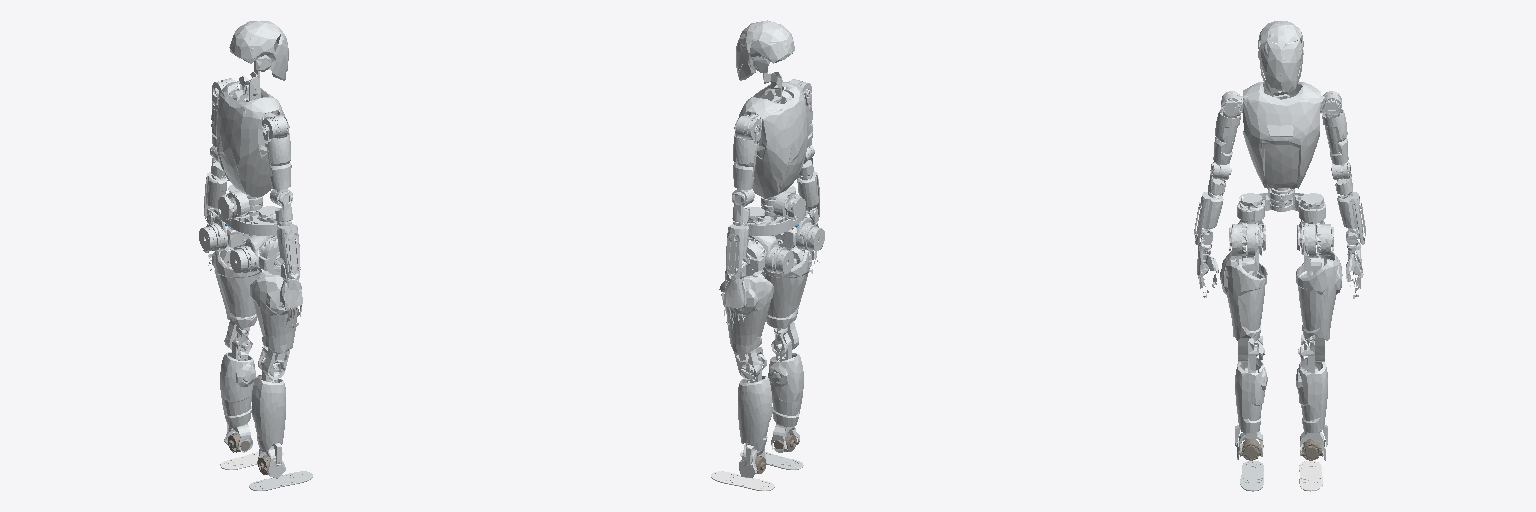
--- Render facts (derived) ---
Views: 3 orthographic renders of the robot side by side, from view 1: azimuth 30°, elevation 25°; view 2: azimuth 150°, elevation 25°; view 3: azimuth 270°, elevation 25°.
Model t1 with 25 links and 24 joints (17 revolute, 7 fixed), rooted at base_link, posed all joints at 0.
Links seen in each view (by area): view 1: WAIST_P_S, leg_r3_link, leg_r4_link, leg_l4_link, leg_l3_link, right_arm_link02, base_link, R_SHOULDER_R_S, left_arm_link02, leg_r1_link, leg_l1_link, leg_r2_link (+1 smaller); view 2: WAIST_P_S, leg_l3_link, leg_l4_link, leg_r4_link, leg_r3_link, left_arm_link02, base_link, L_SHOULDER_R_S, right_arm_link02, leg_l1_link, leg_r1_link, leg_l6_link (+1 smaller); view 3: WAIST_P_S, leg_r3_link, leg_l3_link, leg_r4_link, leg_l4_link, right_arm_link02, left_arm_link02, base_link, R_SHOULDER_R_S, L_SHOULDER_R_S, leg_r2_link, leg_l2_link (+2 smaller).
Boxes of the visible links, x1,y1,x2,y2 form: WAIST_P_S: (216,21,288,197); leg_r3_link: (250,267,298,379); leg_r4_link: (252,354,285,478); leg_l4_link: (220,331,255,452); leg_l3_link: (212,226,260,354); right_arm_link02: (275,192,302,327); base_link: (218,184,277,235); R_SHOULDER_R_S: (263,117,291,189); left_arm_link02: (203,148,227,271); leg_r1_link: (230,235,276,272); leg_l1_link: (199,215,227,250); leg_r2_link: (258,236,283,274); WAIST_P_S: (736,20,807,198); leg_l3_link: (725,269,773,379); leg_l4_link: (738,354,771,477); leg_r4_link: (768,328,803,452); leg_r3_link: (762,227,811,354); left_arm_link02: (719,192,749,328); base_link: (743,185,805,235); L_SHOULDER_R_S: (733,119,760,189); right_arm_link02: (797,158,822,273); leg_l1_link: (749,235,793,273); leg_r1_link: (796,216,824,250); leg_l6_link: (711,471,774,490); WAIST_P_S: (1243,21,1320,188); leg_r3_link: (1220,222,1267,361); leg_l3_link: (1296,223,1342,361); leg_r4_link: (1235,339,1267,459); leg_l4_link: (1296,339,1327,460); right_arm_link02: (1194,162,1225,297); left_arm_link02: (1335,162,1365,298); base_link: (1237,188,1325,221); R_SHOULDER_R_S: (1213,100,1240,164); L_SHOULDER_R_S: (1322,101,1348,164); leg_r2_link: (1229,223,1265,257); leg_l2_link: (1297,223,1333,257).
Size in the robot's own frame: 0.3033 by 0.5881 by 1.69 metres.
Meshes: 24 distinct files referenced, 24 mesh visuals loaded (24 binary STL).

The robot description file, URDF, robot "t1":
<?xml version="1.0" encoding="utf-8"?>
<!-- This URDF was automatically created by SolidWorks to URDF Exporter! Originally created by Stephen Brawner ([email redacted]) 
     Commit Version: 1.6.0-4-g7f85cfe  Build Version: 1.6.7995.38578
     For more information, please see http://wiki.ros.org/sw_urdf_exporter -->
<robot
  name="t1">

    <gazebo>
    <plugin name="gazebo_ros_control" filename="liblegged_hw_sim.so">
      <robotNamespace>/</robotNamespace>
      <robotParam>legged_robot_description</robotParam>
      <!-- <controlPeriod>0.01</controlPeriod> -->
      <robotSimType>legged_gazebo/LeggedHWSim</robotSimType>
    </plugin>
  </gazebo>


  <gazebo>
    <plugin filename="libgazebo_ros_p3d.so" name="p3d_base_controller">
      <alwaysOn>true</alwaysOn>
      <updateRate>500.0</updateRate>
      <bodyName>base_link</bodyName>
      <topicName>ground_truth/state</topicName>
      <gaussianNoise>0</gaussianNoise>
      <frameName>world</frameName>
      <xyzOffsets>0 0 0</xyzOffsets>
      <rpyOffsets>0 0 0</rpyOffsets>
    </plugin>
  </gazebo>

  <gazebo> 
        <plugin name="link_attacher_plugin" filename="libgazebo_ros_link_attacher.so"/>
  </gazebo>
  <link
    name="base_link">
    <inertial>
      <origin
        xyz="0.073 0 0.039"
        rpy="0 0 0" />
      <mass
        value="4.999" />
      <inertia
        ixx="0.039"
        ixy="9.53219619778216E-07"
        ixz="-0.002"
        iyy="0.011"
        iyz="5.223135412837E-08"
        izz="0.046" />
    </inertial>
    <visual>
      <origin
        xyz="0 0 0"
        rpy="0 0 0" />
      <geometry>
        <mesh
          filename="package://robot_rviz/meshes/PELVIS_S.STL" />
      </geometry>
      <material
        name="">
        <color
          rgba="0.898039215686275 0.917647058823529 0.929411764705882 1" />
      </material>
    </visual>
    <collision>
      <origin
        xyz="0.1 0 0.2"
        rpy="0 0.0 0" />
      <geometry>
        <!-- <mesh
          filename="../robot_rviz/meshes/PELVIS_S.STL" /> -->
        <box size="0.12 0.5 0.6" />
      </geometry>
    </collision>
  </link>
  <!-- <joint name="fixed_joint" type="fixed">
    <parent link="world"/>
    <child link="base_link"/>
    <origin xyz="1.2 0 0" rpy="0 0 0"/><joint
  </joint> -->


  <joint name="base_imu_joint" type="fixed">
    <origin rpy="0. 0. 0." xyz="0.0 0.0 0.0" />
    <parent link="base_link" />
    <child link="base_imu" />
  </joint>
  <!-- Imu link -->
  <link name="base_imu">
    <inertial>
      <mass value="0.01" />
      <origin rpy="0 0 0" xyz="0 0 0.0" />
      <inertia ixx="0.000001" ixy="0" ixz="0" iyy="0.000001" iyz="0" izz="0.000001" />
    </inertial>
    <visual>
      <origin rpy="0 0 0" xyz="0 0 0" />
      <geometry>
        <box size="0.015 0.015 0.004" />
      </geometry>
    </visual>
    <material name="orange">
      <color rgba="255 108 10 255" />
    </material>
  </link>
  <gazebo reference="base_imu_joint">
    <disableFixedJointLumping>true</disableFixedJointLumping>
  </gazebo>
  <!-- ************************************************************ -->
  <!-- ************************ Left Leg ************************** -->
  <!-- ************************************************************ -->
    
    <!-- ************* part 1 *************** -->
  <link
    name="leg_l1_link">
    <inertial>
      <origin
        xyz="-0.088 0 -0.077"
        rpy="0 0 0" />
      <mass
        value="1.679" />
      <inertia
        ixx="0.002"
        ixy="0.00"
        ixz="0.001"
        iyy="0.003"
        iyz="0.000"
        izz="0.002" />
    </inertial>
    <visual>
      <origin
        xyz="0 0 0"
        rpy="0 0 0" />
      <geometry>
        <mesh
          filename="package://robot_rviz/meshes/L_HIP_Y_S.STL" />
      </geometry>
      <material
        name="">
        <color
          rgba="0.898039215686275 0.917647058823529 0.929411764705882 1" />
      </material>
    </visual>
    <!-- <collision>
      <origin
        xyz="0 0 0"
        rpy="0 0 0" />
      <geometry>
        <mesh
          filename="package://robot_rviz/meshes/L_HIP_Y_S.STL" />
      </geometry>
    </collision> -->
  </link>
  <joint
    name="leg_l1_joint"
    type="revolute">
    <origin
      xyz="0.1067 0.105 0.000"
      rpy="0 0 0." />
    <parent
      link="base_link" />
    <child
      link="leg_l1_link" />
    <axis
      xyz="0 0 1" />
    <dynamics damping="0.0" friction="0.00" />
    <limit
      lower="-0.7"
      upper="0.7"
      effort="102"
      velocity="3.7" />
  </joint>
  <link
    name="leg_l2_link">
    <inertial>
      <origin
        xyz="0.071 0.009 0.000"
        rpy="0 0 0" />
      <mass
        value="3.287" />
      <inertia
        ixx="0.006"
        ixy="0.000"
        ixz="0.000"
        iyy="0.006"
        iyz="0.000"
        izz="0.006" />
    </inertial>
    <visual>
      <origin
        xyz="0 0 0"
        rpy="0 0 0" />
      <geometry>
        <mesh
          filename="package://robot_rviz/meshes/L_HIP_R_S.STL" />
      </geometry>
      <material
        name="">
        <color
          rgba="0.898039215686275 0.917647058823529 0.929411764705882 1" />
      </material>
    </visual>
    <!-- <collision>
      <origin
        xyz="0 0 0"
        rpy="0 0 0" />
      <geometry>
        <mesh
          filename="package://robot_rviz/meshes/L_HIP_R_S.STL" />
      </geometry>
    </collision> -->
  </link>
  <joint
    name="leg_l2_joint"
    type="revolute">
    <origin
      xyz="-0.074 0 -0.09"
      rpy="0. 0 0" />
    <parent
      link="leg_l1_link" />
    <child
      link="leg_l2_link" />
    <axis
      xyz="1 0 0" />
    <limit
      lower="-0.3"
      upper="0.3"
      effort="102"
      velocity="3.7" />
    <dynamics damping="0.0" friction="0.00" />
  </joint>
  <link
    name="leg_l3_link">
    <inertial>
      <origin
        xyz="0.005 0.053 -0.178"
        rpy="0 0 0" />
      <mass
        value="6.432" />
      <inertia
        ixx="0.054"
        ixy="0.000"
        ixz="-0.001"
        iyy="0.056"
        iyz="0.002"
        izz="0.011" />
    </inertial>
    <visual>
      <origin
        xyz="0 0 0"
        rpy="0 0 0" />
      <geometry>
        <mesh
          filename="package://robot_rviz/meshes/L_HIP_P_S.STL" />
      </geometry>
      <material
        name="">
        <color
          rgba="0.898039215686275 0.917647058823529 0.929411764705882 1" />
      </material>
    </visual>
    <!-- <collision>
      <origin
        xyz="0.01 0.06 -0.185"
        rpy="0 0 0" />
      <geometry>
        <box size="0.12 0.12 0.30" />
<mesh
          filename="package://robot_rviz/meshes/L_HIP_P_S.STL" />
      </geometry>
    </collision> -->
  </link>
  <joint
    name="leg_l3_joint"
    type="revolute">
    <origin
      xyz="0.074 -0.0255 0"
      rpy="0 0. 0" />
    <parent
      link="leg_l2_link" />
    <child
      link="leg_l3_link" />
    <axis
      xyz="0 1 0" />
    <limit
      lower="-1.4"
      upper="2"
      effort="500"
      velocity="20" />
    <dynamics damping="0.0" friction="0.00" />
  </joint>
  <link
    name="leg_l4_link">
    <inertial>
      <origin
        xyz="-0.00 0.053 -0.179"
        rpy="0 0 0" />
      <mass
        value="3.222" />
      <inertia
        ixx="0.044"
        ixy="0.000"
        ixz="0.000"
        iyy="0.044"
        iyz="-0.002"
        izz="0.003" />
    </inertial>
    <visual>
      <origin
        xyz="0 0 0"
        rpy="0 0 0" />
      <geometry>
        <mesh
          filename="package://robot_rviz/meshes/L_KNEE_P_S.STL" />
      </geometry>
      <material
        name="">
        <color
          rgba="0.898039215686275 0.917647058823529 0.929411764705882 1" />
      </material>
    </visual>
    <!-- <collision>
      <origin
        xyz="0 0.05 -0.11"
        rpy="0 0 0" />
      <geometry>
        <box size="0.1 0.1 0.30" />
<mesh
          filename="package://robot_rviz/meshes/L_KNEE_P_S.STL" />
      </geometry>
    </collision> -->
  </link>
  <joint
    name="leg_l4_joint"
    type="revolute">
    <origin
      xyz="0 -0.0226 -0.42"
      rpy="0 0. 0" />
    <parent
      link="leg_l3_link" />
    <child
      link="leg_l4_link" />
    <axis
      xyz="0 1 0" />
    <limit
      lower="0"
      upper="2.09"
      effort="500"
      velocity="20" />
    <dynamics damping="0.0" friction="0.00" />
  </joint>
  <link
    name="leg_l5_link">
    <inertial>
      <origin
        xyz="0.002 -0.046 0.0000"
        rpy="0 0 0" />
      <mass
        value="0.629" />
      <inertia
        ixx="0.00023285"
        ixy="0"
        ixz="0"
        iyy="0.00029849"
        iyz="0"
        izz="0.00028791" />
    </inertial>
    <visual>
      <origin
        xyz="0 0 0"
        rpy="0 0 0" />
      <geometry>
        <mesh
          filename="package://robot_rviz/meshes/L_ANKLE_P_S.STL" />
      </geometry>
      <material
        name="">
        <color
          rgba="0.647058823529412 0.619607843137255 0.588235294117647 1" />
      </material>
    </visual>
    <!-- <collision>
      <origin
        xyz="0 0 0"
        rpy="0 0 0" />
      <geometry>
        <mesh
          filename="package://robot_rviz/meshes/L_ANKLE_P_S.STL" />
      </geometry>
    </collision> -->
  </link>
  <joint
    name="leg_l5_joint"
    type="revolute">
    <origin
      xyz="0 0.0936 -0.37"
      rpy="0 0. 0" />
    <parent
      link="leg_l4_link" />
    <child
      link="leg_l5_link" />
    <axis
      xyz="0 1 0" />
    <limit
      lower="-2.0"
      upper="2.0"
      effort="200"
      velocity="20" />
    <dynamics damping="0.0" friction="0.00" />
  </joint>
  <link
    name="leg_l6_link">
    <inertial>
      <origin
        xyz="0.003 -0.002 -0.068"
        rpy="0 0 0" />
      <mass
        value="0.802" />
      <inertia
        ixx="0.001"
        ixy="0"
        ixz="0"
        iyy="0.003"
        iyz="0"
        izz="0.003" />
    </inertial>
    <visual>
      <origin
        xyz="0 0 -0.075"
        rpy="0 0 0" />
      <geometry>
        <mesh
          filename="package://robot_rviz/meshes/L_ANKLE_R_S.STL" />
      </geometry>
      <material
        name="">
        <color
          rgba="1 1 1 1" />
      </material>
    </visual>
    <collision>
      <!-- <origin
        xyz="-0.0 -0.00  -0.0715" 
        rpy="0 0 0" /> -->
      <origin
        xyz="-0.0 -0.00 -0.075"
        rpy="0 0 0" />
      <geometry>
        <mesh
          filename="package://robot_rviz/meshes/L_ANKLE_R_S.STL" />
      </geometry>
      <!-- <geometry>
        <box size="0.215 0.084 0.017" />
      </geometry> -->
    </collision>
  </link>
  <joint
    name="leg_l6_joint"
    type="revolute">
    <origin
      xyz="0.02595 -0.049 0"
      rpy="0. 0 0" />
    <parent
      link="leg_l5_link" />
    <child
      link="leg_l6_link" />
    <axis
      xyz="1 0 0" />
    <limit
      lower="-3.0"
      upper="3.0"
      effort="20.2"
      velocity="9.85" />
    <dynamics damping="0.0" friction="0.00" />
  </joint>

  <gazebo reference="leg_l1_link">
    <mu1>0.6</mu1>
    <mu2>0.6</mu2>
    <self_collide>1</self_collide>
  </gazebo>
  <gazebo reference="leg_l2_link">
    <mu1>0.6</mu1>
    <mu2>0.6</mu2>
    <self_collide>1</self_collide>
  </gazebo>
  <gazebo reference="leg_l3_link">
    <mu1>0.6</mu1>
    <mu2>0.6</mu2>
    <self_collide>1</self_collide>
  </gazebo>
  <gazebo reference="leg_l4_link">
    <mu1>0.6</mu1>
    <mu2>0.6</mu2>
    <self_collide>1</self_collide>
  </gazebo>
  <gazebo reference="leg_l5_link">
    <mu1>1.6</mu1>
    <mu2>1.6</mu2>
    <self_collide>0</self_collide>
    <kp value="1000000.0" />
    <kd value="100.0" />
    <maxVel>1.0</maxVel>
    <minDepth>0.00</minDepth>
  </gazebo>
  <gazebo reference="leg_l6_link">
    <mu1>1.6</mu1>
    <mu2>1.6</mu2>
    <self_collide>0</self_collide>
    <kp value="1000000.0" />
    <kd value="100.0" />
    <maxVel>1.0</maxVel>
    <minDepth>0.00</minDepth>
  </gazebo>

  <transmission name="leg_l1_tran">
    <type>transmission_interface/SimpleTransmission</type>
    <joint name="leg_l1_joint">
      <hardwareInterface>hardware_interface/EffortJointInterface</hardwareInterface>
    </joint>
    <actuator name="leg_l1_motor">
      <hardwareInterface>hardware_interface/EffortJointInterface</hardwareInterface>
      <mechanicalReduction>101</mechanicalReduction>
      <maxVelocity>11</maxVelocity> <!-- 40rpm -->
      <maxEffort>300</maxEffort>
      <!-- <maxVelocity>4.188790205</maxVelocity>
      <maxEffort>64.0</maxEffort> -->
    </actuator>
  </transmission>
  <transmission name="leg_l2_tran">
    <type>transmission_interface/SimpleTransmission</type>
    <joint name="leg_l2_joint">
      <hardwareInterface>hardware_interface/EffortJointInterface</hardwareInterface>
    </joint>
    <actuator name="leg_l2_motor">
      <hardwareInterface>hardware_interface/EffortJointInterface</hardwareInterface>
      <mechanicalReduction>101</mechanicalReduction>
      <maxVelocity>4.188790205</maxVelocity> <!-- 40rpm -->
      <maxEffort>64.0</maxEffort>
      <!--  <maxVelocity>4.188790205</maxVelocity>
      <maxEffort>64.0</maxEffort> -->
    </actuator>
  </transmission>
  <transmission name="leg_l3_tran">
    <type>transmission_interface/SimpleTransmission</type>
    <joint name="leg_l3_joint">
      <hardwareInterface>hardware_interface/EffortJointInterface</hardwareInterface>
    </joint>
    <actuator name="leg_l3_motor">
      <hardwareInterface>hardware_interface/EffortJointInterface</hardwareInterface>
      <mechanicalReduction>51</mechanicalReduction>
      <maxVelocity>5.759586532</maxVelocity>  <!-- 55rpm -->
      <maxEffort>188.0</maxEffort>
      <!-- <maxVelocity>11</maxVelocity> 
      <maxEffort>300</maxEffort> -->
    </actuator>
  </transmission>
  <transmission name="leg_l4_tran">
    <type>transmission_interface/SimpleTransmission</type>
    <joint name="leg_l4_joint">
      <hardwareInterface>hardware_interface/EffortJointInterface</hardwareInterface>
    </joint>
    <actuator name="leg_l4_motor">
      <hardwareInterface>hardware_interface/EffortJointInterface</hardwareInterface>
      <mechanicalReduction>51</mechanicalReduction>
      <maxVelocity>5.759586532</maxVelocity> <!-- 55rpm -->
      <maxEffort>188.0</maxEffort>
      <!-- <maxVelocity>5.759586532</maxVelocity> 
      <maxEffort>188.0</maxEffort> -->
    </actuator>
  </transmission>
  <transmission name="leg_l5_tran">
    <type>transmission_interface/SimpleTransmission</type>
    <joint name="leg_l5_joint">
      <hardwareInterface>hardware_interface/EffortJointInterface</hardwareInterface>
    </joint>
    <actuator name="leg_l5_motor">
      <hardwareInterface>hardware_interface/EffortJointInterface</hardwareInterface>
      <mechanicalReduction>51</mechanicalReduction>
      <maxVelocity>8.58701992</maxVelocity> <!-- 82rpm -->
      <maxEffort>40.0</maxEffort>
      <!--  <maxVelocity>8.58701992</maxVelocity> 
      <maxEffort>40.0</maxEffort> -->
    </actuator>
  </transmission>
  <transmission name="leg_l6_tran">
    <type>transmission_interface/SimpleTransmission</type>
    <joint name="leg_l6_joint">
      <hardwareInterface>hardware_interface/EffortJointInterface</hardwareInterface>
    </joint>
    <actuator name="leg_l6_motor">
      <hardwareInterface>hardware_interface/EffortJointInterface</hardwareInterface>
      <mechanicalReduction>51</mechanicalReduction>
      <maxVelocity>9.58</maxVelocity> <!-- 97rpm -->
      <maxEffort>20.2</maxEffort>
      <!-- <maxVelocity>11</maxVelocity> 
      <maxEffort>300</maxEffort> -->
    </actuator>
  </transmission>


  <link
    name="leg_r1_link">
    <inertial>
      <origin
        xyz="-0.088 0.00 -0.077"
        rpy="0 0 0" />
      <mass
        value="1.679" />
      <inertia
        ixx="0.002"
        ixy="0"
        ixz="0.001"
        iyy="0.003"
        iyz="0"
        izz="0.002" />
    </inertial>
    <visual>
      <origin
        xyz="0 0 0"
        rpy="0 0 0" />
      <geometry>
        <mesh
          filename="package://robot_rviz/meshes/R_HIP_Y_S.STL" />
      </geometry>
      <material
        name="">
        <color
          rgba="0.898039215686275 0.917647058823529 0.929411764705882 1" />
      </material>
    </visual>
    <!-- <collision>
      <origin
        xyz="0 0 0"
        rpy="0 0 0" />
      <geometry>
        <mesh
          filename="package://robot_rviz/meshes/R_HIP_Y_S.STL" />
      </geometry>
    </collision> -->
  </link>
  <joint
    name="leg_r1_joint"
    type="revolute">
    <origin
      xyz="0.1067 -0.105 0"
      rpy="0 0 0." />
    <parent
      link="base_link" />
    <child
      link="leg_r1_link" />
    <axis
      xyz="0 0 1" />
    <limit
      lower="-0.7"
      upper="0.7"
      effort="102"
      velocity="3.7" />
    <dynamics damping="0.0" friction="0.00" />
  </joint>
  <link
    name="leg_r2_link">
    <inertial>
      <origin
        xyz="0.071 -0.009 0.000"
        rpy="0 0 0" />
      <mass
        value="3.287" />
      <inertia
        ixx="0.006"
        ixy="0.000"
        ixz="0.000"
        iyy="0.006"
        iyz="0.000"
        izz="0.006" />
    </inertial>
    <visual>
      <origin
        xyz="0 0 0"
        rpy="0 0 0" />
      <geometry>
        <mesh
          filename="package://robot_rviz/meshes/R_HIP_R_S.STL" />
      </geometry>
      <material
        name="">
        <color
          rgba="0.898039215686275 0.917647058823529 0.929411764705882 1" />
      </material>
    </visual>
    <!-- <collision>
      <origin
        xyz="0 0 0"
        rpy="0 0 0" />
      <geometry>
        <mesh
          filename="package://robot_rviz/meshes/R_HIP_R_S.STL" />
      </geometry>
    </collision> -->
  </link>
  <joint
    name="leg_r2_joint"
    type="revolute">
    <origin
      xyz="-0.074 0 -0.09"
      rpy="0. 0 0" />
    <parent
      link="leg_r1_link" />
    <child
      link="leg_r2_link" />
    <axis
      xyz="1 0 0" />
    <limit
      lower="-0.3"
      upper="0.3"
      effort="102"
      velocity="3.7" />
    <dynamics damping="0.0" friction="0.00" />
  </joint>
  <link
    name="leg_r3_link">
    <inertial>
      <origin
        xyz="0.005 -0.053 -0.178"
        rpy="0 0 0" />
      <mass
        value="6.432" />
      <inertia
        ixx="0.054"
        ixy="0.000"
        ixz="-0.001"
        iyy="0.056"
        iyz="-0.002"
        izz="0.011" />
    </inertial>
    <visual>
      <origin
        xyz="0 0 0"
        rpy="0 0 0" />
      <geometry>
        <mesh
          filename="package://robot_rviz/meshes/R_HIP_P_S.STL" />
      </geometry>
      <material
        name="">
        <color
          rgba="0.898039215686275 0.917647058823529 0.929411764705882 1" />
      </material>
    </visual>
    <!-- <collision>
      <origin
        xyz="0.01 -0.06 -0.185"
        rpy="0 0 0" />
      <geometry>
        <box size="0.12 0.12 0.30" />
<mesh
          filename="package://robot_rviz/meshes/R_HIP_P_S.STL" />
      </geometry>
    </collision> -->
  </link>
  <joint
    name="leg_r3_joint"
    type="revolute">
    <origin
      xyz="0.074 0.0255 0"
      rpy="0 0. 0" />
    <parent
      link="leg_r2_link" />
    <child
      link="leg_r3_link" />
    <axis
      xyz="0 1 0" />
    <limit
      lower="-1.4"
      upper="2"
      effort="500"
      velocity="20" />
    <dynamics damping="0.0" friction="0.00" />
  </joint>
  <link
    name="leg_r4_link">
    <inertial>
      <origin
        xyz="-0.000 -0.053 -0.179"
        rpy="0 0 0" />
      <mass
        value="3.222" />
      <inertia
        ixx="0.044"
        ixy="0.000"
        ixz="0.000"
        iyy="0.044"
        iyz="0.002"
        izz="0.003" />
    </inertial>
    <visual>
      <origin
        xyz="0 0 0"
        rpy="0 0 0" />
      <geometry>
        <mesh
          filename="package://robot_rviz/meshes/R_KNEE_P_S.STL" />
      </geometry>
      <material
        name="">
        <color
          rgba="0.898039215686275 0.917647058823529 0.929411764705882 1" />
      </material>
    </visual>
    <!-- <collision>
      <origin
        xyz="0 -0.05 -0.11"
        rpy="0 0 0" />
      <geometry>
        <box size="0.1 0.1 0.30" />
<mesh
          filename="package://robot_rviz/meshes/R_KNEE_P_S.STL" />
      </geometry>
    </collision> -->
  </link>
  <joint
    name="leg_r4_joint"
    type="revolute">
    <origin
      xyz="0 0.0226 -0.42"
      rpy="0 0. 0" />
    <parent
      link="leg_r3_link" />
    <child
      link="leg_r4_link" />
    <axis
      xyz="0 1 0" />
    <limit
      lower="0"
      upper="2.09"
      effort="500"
      velocity="20" />
    <dynamics damping="0.0" friction="0.00" />
  </joint>
  <link
    name="leg_r5_link">
    <inertial>
      <origin
        xyz="0.002 0.046 0.0000"
        rpy="0 0 0" />
      <mass
        value="0.629" />
      <inertia
        ixx="0.00023285"
        ixy="0"
        ixz="0"
        iyy="0.00029849"
        iyz="0"
        izz="0.00028791" />
    </inertial>
    <visual>
      <origin
        xyz="0 0 0"
        rpy="0 0 0" />
      <geometry>
        <mesh
          filename="package://robot_rviz/meshes/R_ANKLE_P_S.STL" />
      </geometry>
      <material
        name="">
        <color
          rgba="0.647058823529412 0.619607843137255 0.588235294117647 1" />
      </material>
    </visual>
    <!-- <collision>
      <origin
        xyz="0 0 0"
        rpy="0 0 0" />
      <geometry>
        <mesh
          filename="package://robot_rviz/meshes/R_ANKLE_P_S.STL" />
      </geometry>
    </collision> -->
  </link>
  <joint
    name="leg_r5_joint"
    type="revolute">
    <origin
      xyz="0 -0.0936 -0.37"
      rpy="0 0. 0" />
    <parent
      link="leg_r4_link" />
    <child
      link="leg_r5_link" />
    <axis
      xyz="0 1 0" />
    <limit
      lower="-2.0"
      upper="2.0"
      effort="200"
      velocity="20" />
    <dynamics damping="0.0" friction="0.00" />
  </joint>
  <link
    name="leg_r6_link">
    <inertial>
      <origin
        xyz="0.003 0.002 -0.068"
        rpy="0 0 0" />
      <mass
        value="0.802" />
      <inertia
        ixx="0.001"
        ixy="0"
        ixz="0"
        iyy="0.003"
        iyz="0"
        izz="0.003" />
    </inertial>
    <visual>
      <origin
        xyz="0 0 -0.075"
        rpy="0 0 0" />
      <geometry>
        <mesh
          filename="package://robot_rviz/meshes/R_ANKLE_R_S.STL" />
      </geometry>
      <material
        name="">
        <color
          rgba="0.898039215686275 0.917647058823529 0.929411764705882 1" />
      </material>
    </visual>
    <collision>
      <!-- <origin
        xyz="-0.0 -0.00  -0.0715"
        rpy="0 0 0" /> -->
      <origin
        xyz="-0.0 -0.00  -0.075"
        rpy="0 0 0" />
      <geometry>
        <mesh
          filename="package://robot_rviz/meshes/R_ANKLE_R_S.STL" />
      </geometry>
      <!-- <geometry>
        <box size="0.215 0.084 0.017" />
      </geometry> -->
    </collision>
  </link>
  <joint
    name="leg_r6_joint"
    type="revolute">
    <origin
      xyz="0.02595 0.049 0"
      rpy="0. 0 0" />
    <parent
      link="leg_r5_link" />
    <child
      link="leg_r6_link" />
    <axis
      xyz="1 0 0" />
    <limit
      lower="-3.0"
      upper="3.0"
      effort="20.2"
      velocity="9.85" />
    <dynamics damping="0.0" friction="0.00" />
  </joint>

  <gazebo reference="leg_r1_link">
    <mu1>0.6</mu1>
    <mu2>0.6</mu2>
    <self_collide>1</self_collide>
  </gazebo>
  <gazebo reference="leg_r2_link">
    <mu1>0.6</mu1>
    <mu2>0.6</mu2>
    <self_collide>1</self_collide>
  </gazebo>
  <gazebo reference="leg_r3_link">
    <mu1>0.6</mu1>
    <mu2>0.6</mu2>
    <self_collide>1</self_collide>
  </gazebo>
  <gazebo reference="leg_r4_link">
    <mu1>0.6</mu1>
    <mu2>0.6</mu2>
    <self_collide>1</self_collide>
  </gazebo>
  <gazebo reference="leg_r5_link">
    <mu1>1.6</mu1>
    <mu2>1.6</mu2>
    <self_collide>0</self_collide>
    <kp value="1000000.0" />
    <kd value="100.0" />
    <maxVel>1.0</maxVel>
    <minDepth>0.00</minDepth>
  </gazebo>
  <gazebo reference="leg_r6_link">
    <mu1>1.6</mu1>
    <mu2>1.6</mu2>
    <self_collide>0</self_collide>
    <kp value="1000000.0" />
    <kd value="100.0" />
    <maxVel>1.0</maxVel>
    <minDepth>0.00</minDepth>
  </gazebo>

  <transmission name="leg_r1_tran">
    <type>transmission_interface/SimpleTransmission</type>
    <joint name="leg_r1_joint">
      <hardwareInterface>hardware_interface/EffortJointInterface</hardwareInterface>
    </joint>
    <actuator name="leg_r1_motor">
      <hardwareInterface>hardware_interface/EffortJointInterface</hardwareInterface>
      <mechanicalReduction>101</mechanicalReduction>
      <maxVelocity>4.188790205</maxVelocity> <!-- 40rpm -->
      <maxEffort>64.0</maxEffort>
      <!-- <maxVelocity>4.188790205</maxVelocity> 
      <maxEffort>64.0</maxEffort> -->
    </actuator>
  </transmission>
  <transmission name="leg_r2_tran">
    <type>transmission_interface/SimpleTransmission</type>
    <joint name="leg_r2_joint">
      <hardwareInterface>hardware_interface/EffortJointInterface</hardwareInterface>
    </joint>
    <actuator name="leg_r2_motor">
      <hardwareInterface>hardware_interface/EffortJointInterface</hardwareInterface>
      <mechanicalReduction>101</mechanicalReduction>
      <maxVelocity>11</maxVelocity> <!-- 40rpm -->
      <maxEffort>300</maxEffort>
      <!-- <maxVelocity>4.188790205</maxVelocity>
      <maxEffort>64.0</maxEffort> -->
    </actuator>
  </transmission>
  <transmission name="leg_r3_tran">
    <type>transmission_interface/SimpleTransmission</type>
    <joint name="leg_r3_joint">
      <hardwareInterface>hardware_interface/EffortJointInterface</hardwareInterface>
    </joint>
    <actuator name="leg_r3_motor">
      <hardwareInterface>hardware_interface/EffortJointInterface</hardwareInterface>
      <mechanicalReduction>51</mechanicalReduction>
      <maxVelocity>11</maxVelocity>  <!-- 55rpm -->
      <maxEffort>300</maxEffort>
      <!-- <maxVelocity>5.759586532</maxVelocity>
      <maxEffort>188.0</maxEffort> -->
    </actuator>
  </transmission>
  <transmission name="leg_r4_tran">
    <type>transmission_interface/SimpleTransmission</type>
    <joint name="leg_r4_joint">
      <hardwareInterface>hardware_interface/EffortJointInterface</hardwareInterface>
    </joint>
    <actuator name="leg_r4_motor">
      <hardwareInterface>hardware_interface/EffortJointInterface</hardwareInterface>
      <mechanicalReduction>51</mechanicalReduction>
      <maxVelocity>11</maxVelocity> <!-- 55rpm -->
      <maxEffort>300</maxEffort>
      <!-- <maxVelocity>5.759586532</maxVelocity> 
      <maxEffort>188.0</maxEffort> -->
    </actuator>
  </transmission>
  <transmission name="leg_r5_tran">
    <type>transmission_interface/SimpleTransmission</type>
    <joint name="leg_r5_joint">
      <hardwareInterface>hardware_interface/EffortJointInterface</hardwareInterface>
    </joint>
    <actuator name="leg_r5_motor">
      <hardwareInterface>hardware_interface/EffortJointInterface</hardwareInterface>
      <mechanicalReduction>51</mechanicalReduction>
      <maxVelocity>11</maxVelocity> <!-- 82rpm -->
      <maxEffort>300</maxEffort>
      <!-- <maxVelocity>8.58701992</maxVelocity>
      <maxEffort>40.0</maxEffort> -->
    </actuator>
  </transmission>
  <transmission name="leg_r6_tran">
    <type>transmission_interface/SimpleTransmission</type>
    <joint name="leg_r6_joint">
      <hardwareInterface>hardware_interface/EffortJointInterface</hardwareInterface>
    </joint>
    <actuator name="leg_r6_motor">
      <hardwareInterface>hardware_interface/EffortJointInterface</hardwareInterface>
      <mechanicalReduction>51</mechanicalReduction>
      <maxVelocity>11</maxVelocity> <!-- 97rpm -->
      <maxEffort>300</maxEffort>
      <!-- <maxVelocity>9.58</maxVelocity>
      <maxEffort>20.2</maxEffort> -->
    </actuator>
  </transmission>


  <link
    name="WAIST_R_S">
    <inertial>
      <origin
        xyz="0.0147146597548716 1.71251042402343E-07 0.00581657288948056"
        rpy="0 0 0" />
      <mass
        value="1.097" />
      <inertia
        ixx="0.000119834776210975"
        ixy="-1.75997200485458E-10"
        ixz="-2.87202905688535E-05"
        iyy="0.000158040219102489"
        iyz="3.22626963198153E-11"
        izz="0.000185996716004393" />
    </inertial>
    <visual>
      <origin
        xyz="0 0 0"
        rpy="0 0 0" />
      <geometry>
        <mesh
          filename="package://robot_rviz/meshes/WAIST_R_S.STL" />
      </geometry>
      <material
        name="">
        <color
          rgba="0.898039215686275 0.917647058823529 0.929411764705882 1" />
      </material>
    </visual>
    <collision>
      <origin
        xyz="0 0 0"
        rpy="0 0 0" />
      <geometry>
        <mesh
          filename="package://robot_rviz/meshes/WAIST_R_S.STL" />
      </geometry>
    </collision>
  </link>
  <joint
    name="WAIST_R"
    type="revolute">
    <origin
      xyz="0.045 0 0.065"
      rpy="0 0.0 0" />
    <parent
      link="base_link" />
    <child
      link="WAIST_R_S" />
    <axis
      xyz="1 0 0" />
    <limit
      lower="-0.001"
      upper="0.001"
      effort="300"
      velocity="200" />
    <dynamics damping="0.0" friction="0.00" />
  </joint>
  <link
    name="WAIST_Y_S">
    <inertial>
      <origin
        xyz="7.21870283271198E-08 0.00846304680399129 0.0305767027260458"
        rpy="0 0 0" />
      <mass
        value="0.952" />
      <inertia
        ixx="0.001"
        ixy="0"
        ixz="0"
        iyy="0.001"
        iyz="0"
        izz="0.001" />
    </inertial>
    <visual>
      <origin
        xyz="0 0 0"
        rpy="0 0 0" />
      <geometry>
        <mesh
          filename="package://robot_rviz/meshes/WAIST_Y_S.STL" />
      </geometry>
      <material
        name="">
        <color
          rgba="0.898039215686275 0.917647058823529 0.929411764705882 1" />
      </material>
    </visual>
    <collision>
      <origin
        xyz="0 0 0"
        rpy="0 0 0" />
      <geometry>
        <mesh
          filename="package://robot_rviz/meshes/WAIST_Y_S.STL" />
      </geometry>
    </collision>
  </link>
  <joint
    name="WAIST_Y"
    type="fixed">
    <origin
      xyz="0.047 0 0.0247"
      rpy="0 0 0" />
    <parent
      link="WAIST_R_S" />
    <child
      link="WAIST_Y_S" />
    <axis
      xyz="0 0 1" />
    <limit
      lower="-0.523"
      upper="0.523"
      effort="300"
      velocity="200" />
    <dynamics damping="0.0" friction="0.00" />
  </joint>
  <link
    name="WAIST_P_S">
    <inertial>
      <origin
        xyz="0.0 -0.0374853263409853 0.205714458300526"
        rpy="0 0.0 0" />
      <mass
        value="4.454" />
      <inertia
        ixx="0.075"
        ixy="0"
        ixz="0.006"
        iyy="0.068"
        iyz="0"
        izz="0.026" />
    </inertial>
    <visual>
      <origin
        xyz="0 0 0"
        rpy="0 0 0" />
      <geometry>
        <mesh
          filename="package://robot_rviz/meshes/WAIST_P_S.STL" />
      </geometry>
      <material
        name="">
        <color
          rgba="0.898039215686275 0.917647058823529 0.929411764705882 1" />
      </material>
    </visual>
    <collision>
      <origin
        xyz="0 0 0"
        rpy="0 0 0" />
      <geometry>
        <mesh
          filename="package://robot_rviz/meshes/WAIST_P_S.STL" />
      </geometry>
    </collision>
  </link>
  <joint
    name="WAIST_P"
    type="fixed">
    <origin
      xyz="0 0.037277 0.0623"
      rpy="0 0 0" />
    <parent
      link="WAIST_Y_S" />
    <child
      link="WAIST_P_S" />
    <axis
      xyz="0 1 0" />
    <limit
      lower="0"
      upper="0.524"
      effort="300"
      velocity="200" />
    <dynamics damping="0.0" friction="0.00" />
  </joint>
  <link
    name="left_arm_link01">
    <inertial>
      <origin
        xyz="0.00490598651524339 0.0412219490655845 6.40882252433972E-06"
        rpy="0 0 0" />
      <mass
        value="0.874" />
      <inertia
        ixx="0.001"
        ixy="0"
        ixz="0"
        iyy="0.000101919470755931"
        iyz="0"
        izz="0.001" />
    </inertial>
    <visual>
      <origin
        xyz="0 0 0"
        rpy="0 0 0" />
      <geometry>
        <mesh
          filename="package://robot_rviz/meshes/L_SHOULDER_P_S.STL" />
      </geometry>
      <material
        name="">
        <color
          rgba="0.898039215686275 0.917647058823529 0.929411764705882 1" />
      </material>
    </visual>
    <collision>
      <origin
        xyz="0 0 0"
        rpy="0 0 0" />
      <geometry>
        <mesh
          filename="package://robot_rviz/meshes/L_SHOULDER_P_S.STL" />
      </geometry>
    </collision>
  </link>
  <joint
    name="l_arm_joint1"
    type="revolute">
    <origin
      xyz="0 0.057223 0.262"
      rpy="0 0 0" />
    <parent
      link="WAIST_P_S" />
    <child
      link="left_arm_link01" />
    <axis
      xyz="0 -1 0" />
    <limit
      lower="-2.09"
      upper="2.09"
      effort="300"
      velocity="200" />
    <dynamics damping="0.0" friction="0.00" />
  </joint>
  <link
    name="L_SHOULDER_R_S">
    <inertial>
      <origin
        xyz="-0.034112388671384 0.0107646131605392 -0.0735733451748581"
        rpy="0 0 0" />
      <mass
        value="0.641" />
      <inertia
        ixx="0.001"
        ixy="0"
        ixz="0"
        iyy="0.001"
        iyz="0"
        izz="0.000178181155982569" />
    </inertial>
    <visual>
      <origin
        xyz="0 0 0"
        rpy="0 0 0" />
      <geometry>
        <mesh
          filename="package://robot_rviz/meshes/L_SHOULDER_R_S.STL" />
      </geometry>
      <material
        name="">
        <color
          rgba="0.898039215686275 0.917647058823529 0.929411764705882 1" />
      </material>
    </visual>
    <collision>
      <origin
        xyz="-0.025 0.025 -0.15"
        rpy="0.15 0. 0" />
      <geometry>
        <box size="0.05 0.05 0.2" />
        <mesh
          filename="package://robot_rviz/meshes/L_SHOULDER_R_S.STL" />
      </geometry>
    </collision>
  </link>
  <joint
    name="L_SHOULDER_R"
    type="fixed">
    <origin
      xyz="0.035 0.0765 0"
      rpy="0 0 0" />
    <parent
      link="left_arm_link01" />
    <child
      link="L_SHOULDER_R_S" />
    <axis
      xyz="1 0 0" />
    <limit
      lower="0"
      upper="2.8"
      effort="300"
      velocity="200" />
    <dynamics damping="0.0" friction="0.00" />
  </joint>
  <link
    name="L_SHOULDER_Y_S">
    <inertial>
      <origin
        xyz="-1.13183734384847E-07 0.00507723127737436 -0.0748516153967342"
        rpy="0 0 0" />
      <mass
        value="0.53" />
      <inertia
        ixx="0.000149891430835669"
        ixy="0"
        ixz="0"
        iyy="0.000158652071171994"
        iyz="0"
        izz="4.53131861969904E-05" />
    </inertial>
    <visual>
      <origin
        xyz="0 0 0"
        rpy="0 0 0" />
      <geometry>
        <mesh
          filename="package://robot_rviz/meshes/L_SHOULDER_Y_S.STL" />
      </geometry>
      <material
        name="">
        <color
          rgba="0.898039215686275 0.917647058823529 0.929411764705882 1" />
      </material>
    </visual>
    <collision>
      <origin
        xyz="0 0 0"
        rpy="0 0 0" />
      <geometry>
        <mesh
          filename="package://robot_rviz/meshes/L_SHOULDER_Y_S.STL" />
      </geometry>
    </collision>
  </link>
  <joint
    name="L_SHOULDER_Y"
    type="fixed">
    <origin
      xyz="-0.035 0.017911 -0.12785"
      rpy="0.13919 0.00082916 -0.0059186" />
    <parent
      link="L_SHOULDER_R_S" />
    <child
      link="L_SHOULDER_Y_S" />
    <axis
      xyz="0 0 1" />
    <limit
      lower="-1.57"
      upper="1.57"
      effort="300"
      velocity="200" />
    <dynamics damping="0.0" friction="0.00" />
  </joint>
  <link
    name="left_arm_link02">
    <inertial>
      <origin
        xyz="-0.00139914200891603 -0.00745700611442068 -0.158124887896849"
        rpy="0 0 0" />
      <mass
        value="1.521" />
      <inertia
        ixx="0.022"
        ixy="0"
        ixz="0.001"
        iyy="0.021"
        iyz="0.001"
        izz="0.001123123" />
    </inertial>
    <visual>
      <origin
        xyz="0 0 0"
        rpy="0 0 0" />
      <geometry>
        <mesh
          filename="package://robot_rviz/meshes/L_ELBOW_P_S.STL" />
      </geometry>
      <material
        name="">
        <color
          rgba="0.898039215686275 0.917647058823529 0.929411764705882 1" />
      </material>
    </visual>
    <collision>
      <origin
        xyz="0 -0.025 -0.15"
        rpy="0 0 0" />
      <geometry>
        <box size="0.05 0.05 0.2" />
        <mesh
          filename="package://robot_rviz/meshes/L_ELBOW_P_S.STL" />
      </geometry>
    </collision>
  </link>
  <joint
    name="l_arm_joint2"
    type="revolute">
    <origin
      xyz="0 0.0305 -0.1209"
      rpy="0 0 0" />
    <parent
      link="L_SHOULDER_Y_S" />
    <child
      link="left_arm_link02" />
    <axis
      xyz="0 1 0" />
    <limit
      lower="-1.57"
      upper="0.2"
      effort="300"
      velocity="200" />
    <dynamics damping="0.0" friction="0.00" />
  </joint>
  <link
    name="right_arm_link01">
    <inertial>
      <origin
        xyz="0.00490598603729259 -0.0412219490647948 -6.40932149731377E-06"
        rpy="0 0 0" />
      <mass
        value="0.874" />
      <inertia
        ixx="0.001"
        ixy="0"
        ixz="0"
        iyy="0.000101919470755932"
        iyz="0"
        izz="0.001" />
    </inertial>
    <visual>
      <origin
        xyz="0 0 0"
        rpy="0 0 0" />
      <geometry>
        <mesh
          filename="package://robot_rviz/meshes/R_SHOULDER_P_S.STL" />
      </geometry>
      <material
        name="">
        <color
          rgba="0.898039215686275 0.917647058823529 0.929411764705882 1" />
      </material>
    </visual>
    <collision>
      <origin
        xyz="0 0 0"
        rpy="0 0 0" />
      <geometry>
        <mesh
          filename="package://robot_rviz/meshes/R_SHOULDER_P_S.STL" />
      </geometry>
    </collision>
  </link>
  <joint
    name="r_arm_joint1"
    type="revolute">
    <origin
      xyz="0 -0.13178 0.262"
      rpy="0 0 0" />
    <parent
      link="WAIST_P_S" />
    <child
      link="right_arm_link01" />
    <axis
      xyz="0 -1 0" />
    <limit
      lower="-2.09"
      upper="2.09"
      effort="300"
      velocity="200" />
    <dynamics damping="0.0" friction="0.00" />
  </joint>
  <link
    name="R_SHOULDER_R_S">
    <inertial>
      <origin
        xyz="-0.0341034508581574 -0.0124097243159527 -0.0732958139769537"
        rpy="0 0 0" />
      <mass
        value="0.641" />
      <inertia
        ixx="0.001"
        ixy="0"
        ixz="0"
        iyy="0.001"
        iyz="0"
        izz="0.000178793056139537" />
    </inertial>
    <visual>
      <origin
        xyz="0 0 0"
        rpy="0 0 0" />
      <geometry>
        <mesh
          filename="package://robot_rviz/meshes/R_SHOULDER_R_S.STL" />
      </geometry>
      <material
        name="">
        <color
          rgba="0.898039215686275 0.917647058823529 0.929411764705882 1" />
      </material>
    </visual>
    <collision>
      <origin
        xyz="-0.025 -0.025 -0.15"
        rpy="-0.15 0. 0" />
      <geometry>
        <box size="0.05 0.05 0.2" />
        <mesh
          filename="package://robot_rviz/meshes/R_SHOULDER_R_S.STL" />
      </geometry>
    </collision>
  </link>
  <joint
    name="R_SHOULDER_R"
    type="fixed">
    <origin
      xyz="0.035 -0.0765 0"
      rpy="0 0 0" />
    <parent
      link="right_arm_link01" />
    <child
      link="R_SHOULDER_R_S" />
    <axis
      xyz="1 0 0" />
    <limit
      lower="-2.8"
      upper="0"
      effort="300"
      velocity="200" />
    <dynamics damping="0.0" friction="0.00" />
  </joint>
  <link
    name="R_SHOULDER_Y_S">
    <inertial>
      <origin
        xyz="1.11369435534803E-07 -0.00507726724858912 -0.0748516216430146"
        rpy="0 0 0" />
      <mass
        value="0.530" />
      <inertia
        ixx="0.000149891390975243"
        ixy="0"
        ixz="0"
        iyy="0.000158652062987143"
        iyz="0"
        izz="4.53131716934871E-05" />
    </inertial>
    <visual>
      <origin
        xyz="0 0 0"
        rpy="0 0 0" />
      <geometry>
        <mesh
          filename="package://robot_rviz/meshes/R_SHOULDER_Y_S.STL" />
      </geometry>
      <material
        name="">
        <color
          rgba="0.898039215686275 0.917647058823529 0.929411764705882 1" />
      </material>
    </visual>
    <collision>
      <origin
        xyz="0 0 0"
        rpy="0 0 0" />
      <geometry>
        <mesh
          filename="package://robot_rviz/meshes/R_SHOULDER_Y_S.STL" />
      </geometry>
    </collision>
  </link>
  <joint
    name="R_SHOULDER_Y"
    type="fixed">
    <origin
      xyz="-0.035 -0.020785 -0.12742"
      rpy="-0.1617 0.0011622 0.0071247" />
    <parent
      link="R_SHOULDER_R_S" />
    <child
      link="R_SHOULDER_Y_S" />
    <axis
      xyz="0 0 1" />
    <limit
      lower="-1.57"
      upper="1.57"
      effort="300"
      velocity="200" />
    <dynamics damping="0.0" friction="0.00" />
  </joint>
  <link
    name="right_arm_link02">
    <inertial>
      <origin
        xyz="0.000701666161548625 -0.00336423249886844 -0.160044446112697"
        rpy="0 0 0" />
      <mass
        value="1.531" />
      <inertia
        ixx="0.022"
        ixy="0"
        ixz="-0.001"
        iyy="0.021"
        iyz="-0.001"
        izz="0.0014156" />
    </inertial>
    <visual>
      <origin
        xyz="0 0 0"
        rpy="0 0 0" />
      <geometry>
        <mesh
          filename="package://robot_rviz/meshes/R_ELBOW_P_S.STL" />
      </geometry>
      <material
        name="">
        <color
          rgba="0.898039215686275 0.917647058823529 0.929411764705882 1" />
      </material>
    </visual>
    <collision>
      <origin
        xyz="0 0.025 -0.15"
        rpy="0 0 0" />
      <geometry>
        <box size="0.05 0.05 0.2" />
        <mesh
          filename="package://robot_rviz/meshes/R_ELBOW_P_S.STL" />
      </geometry>
    </collision>
  </link>
  <joint
    name="r_arm_joint2"
    type="revolute">
    <origin
      xyz="0 -0.0205 -0.1209"
      rpy="0 0 0" />
    <parent
      link="R_SHOULDER_Y_S" />
    <child
      link="right_arm_link02" />
    <axis
      xyz="0 -1 0" />
    <limit
      lower="-0.2"
      upper="1.57"
      effort="300"
      velocity="200" />
    <dynamics damping="0.0" friction="0.00" />
  </joint>
  
  <!-- 手臂传动装置 -->
  <transmission name="left_arm_link01_tran">
    <type>transmission_interface/SimpleTransmission</type>
    <joint name="l_arm_joint1">
      <hardwareInterface>hardware_interface/EffortJointInterface</hardwareInterface>
    </joint>
    <actuator name="left_arm_link01_motor">
      <hardwareInterface>hardware_interface/EffortJointInterface</hardwareInterface>
      <mechanicalReduction>101</mechanicalReduction>
      <maxVelocity>4.188790205</maxVelocity> <!-- 40rpm -->
      <maxEffort>64.0</maxEffort>
    </actuator>
  </transmission>
  <transmission name="left_arm_link02_tran">
    <type>transmission_interface/SimpleTransmission</type>
    <joint name="l_arm_joint2">
      <hardwareInterface>hardware_interface/EffortJointInterface</hardwareInterface>
    </joint>
    <actuator name="left_arm_link02_motor">
      <hardwareInterface>hardware_interface/EffortJointInterface</hardwareInterface>
      <mechanicalReduction>101</mechanicalReduction>
      <maxVelocity>4.188790205</maxVelocity> <!-- 40rpm -->
      <maxEffort>64.0</maxEffort>
    </actuator>
  </transmission>
  <transmission name="right_arm_link01_tran">
    <type>transmission_interface/SimpleTransmission</type>
    <joint name="r_arm_joint1">
      <hardwareInterface>hardware_interface/EffortJointInterface</hardwareInterface>
    </joint>
    <actuator name="right_arm_link01_motor">
      <hardwareInterface>hardware_interface/EffortJointInterface</hardwareInterface>
      <mechanicalReduction>51</mechanicalReduction>
      <maxVelocity>5.759586532</maxVelocity>  <!-- 55rpm -->
      <maxEffort>188.0</maxEffort>
    </actuator>
  </transmission>
  <transmission name="right_arm_link02_tran">
    <type>transmission_interface/SimpleTransmission</type>
    <joint name="r_arm_joint2">
      <hardwareInterface>hardware_interface/EffortJointInterface</hardwareInterface>
    </joint>
    <actuator name="right_arm_link02_motor">
      <hardwareInterface>hardware_interface/EffortJointInterface</hardwareInterface>
      <mechanicalReduction>51</mechanicalReduction>
      <maxVelocity>5.759586532</maxVelocity> <!-- 55rpm -->
      <maxEffort>188.0</maxEffort>
    </actuator>
  </transmission>
</robot>
